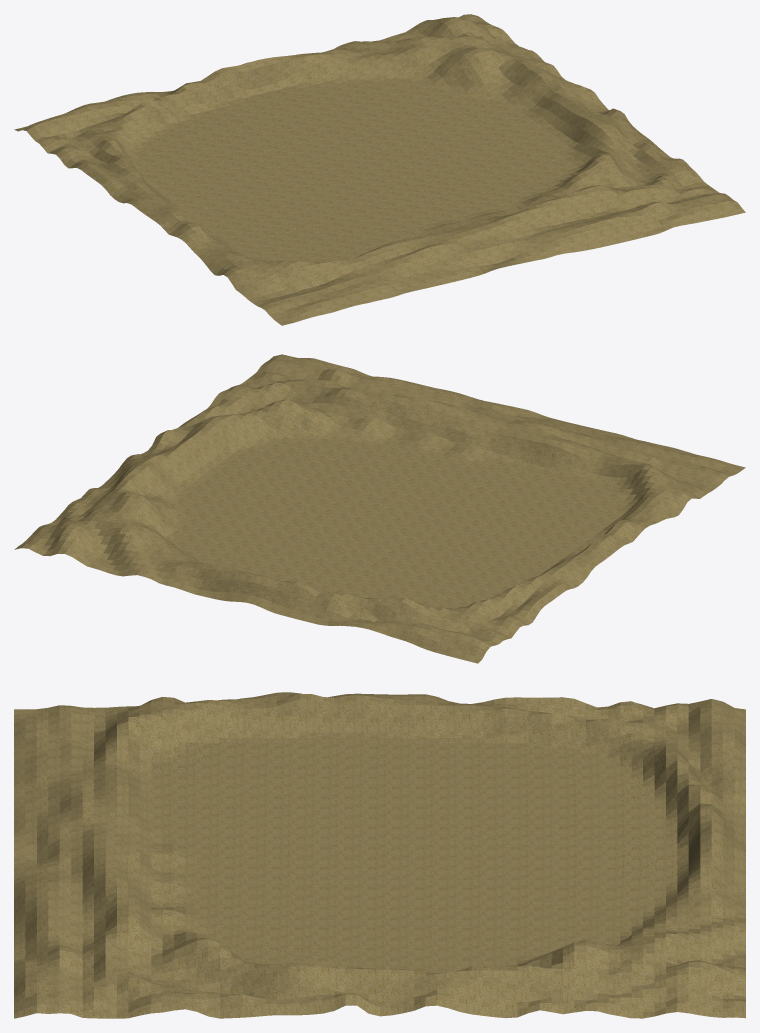
File: terrain7.obj
3 renders of one model, top to bottom at view 1: azimuth 30°, elevation 25°; view 2: azimuth 150°, elevation 25°; view 3: azimuth 270°, elevation 25°, orthographic. The views are drawn at different scales.
Parts seen in each view (by area): view 1: Plane; view 2: Plane; view 3: Plane.
Part boxes in pixels (x1,y1,x2,y2): Plane: (14, 14, 745, 325); Plane: (14, 354, 745, 663); Plane: (14, 692, 745, 1018).
Size of the model in its own units: 368 by 19.18 by 368.
Materials: 1 (1 with a texture image).
